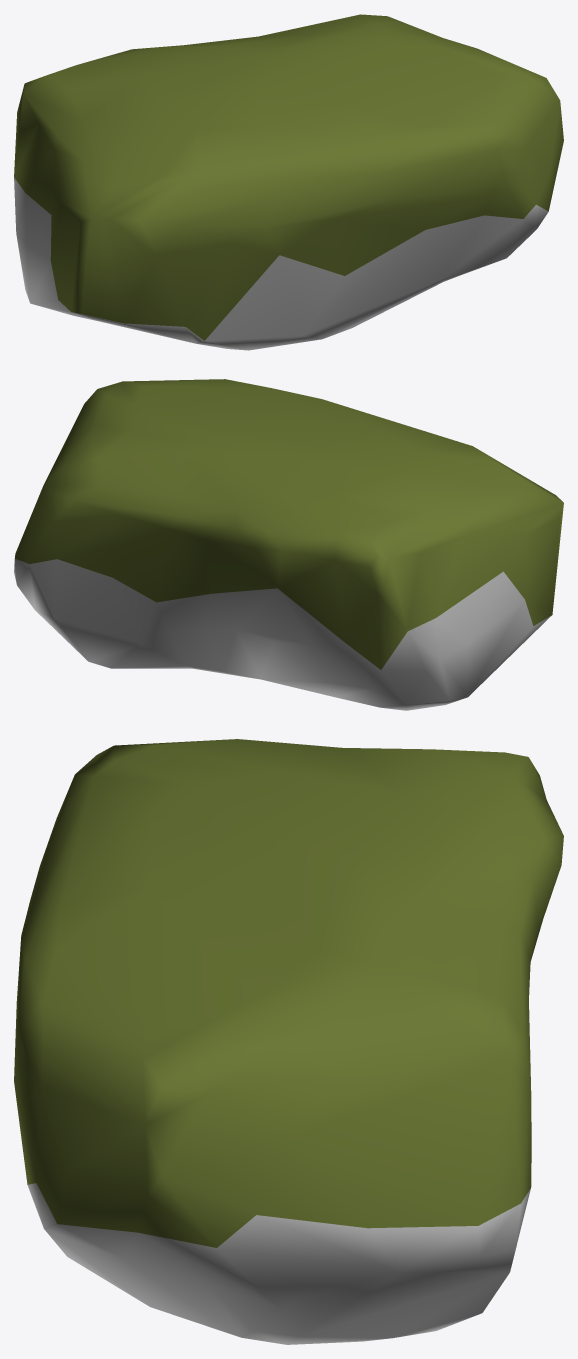
File: Rock_3_mossy_2.fbx
3 renders of one model, top to bottom at view 1: azimuth 30°, elevation 25°; view 2: azimuth 150°, elevation 25°; view 3: azimuth 270°, elevation 25°, orthographic. The views are drawn at different scales.
Parts seen in each view (by area): view 1: Rock_3_mossy_2; view 2: Rock_3_mossy_2; view 3: Rock_3_mossy_2.
Part boxes in pixels (<box>): Rock_3_mossy_2: <box>14,14,563,350</box>; Rock_3_mossy_2: <box>14,379,563,710</box>; Rock_3_mossy_2: <box>14,739,563,1344</box>.
Bounding box in the file's own units: 49.93 × 23.38 × 30.55.
Materials: 1 (1 with a texture image).
